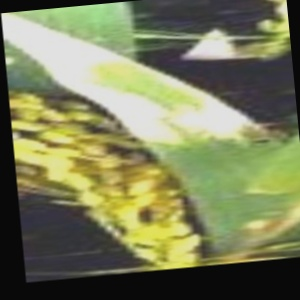Leaf_Blast: (101, 29, 261, 248)
